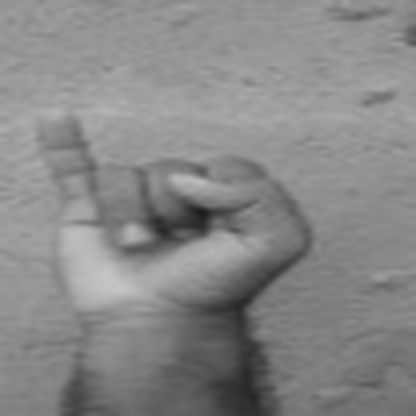i: (31, 101, 314, 312)
